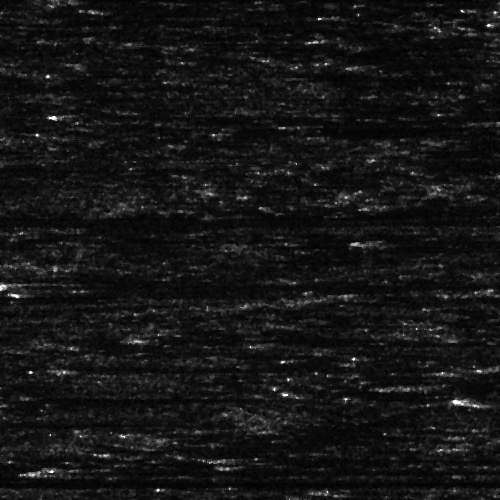object: (386, 395, 500, 408), (118, 329, 191, 346), (0, 464, 104, 475), (189, 452, 272, 463), (324, 234, 407, 243), (362, 382, 445, 389), (0, 287, 45, 298), (31, 110, 94, 115), (4, 396, 35, 399), (0, 281, 23, 284)
shadow: (0, 474, 500, 487), (155, 329, 500, 346), (51, 464, 425, 475), (230, 452, 500, 463), (0, 412, 118, 435), (13, 287, 245, 298), (63, 110, 497, 115), (366, 234, 500, 243), (19, 396, 245, 399), (404, 382, 500, 389), (63, 366, 139, 371), (0, 215, 40, 224), (480, 395, 500, 408), (3, 281, 80, 284)
